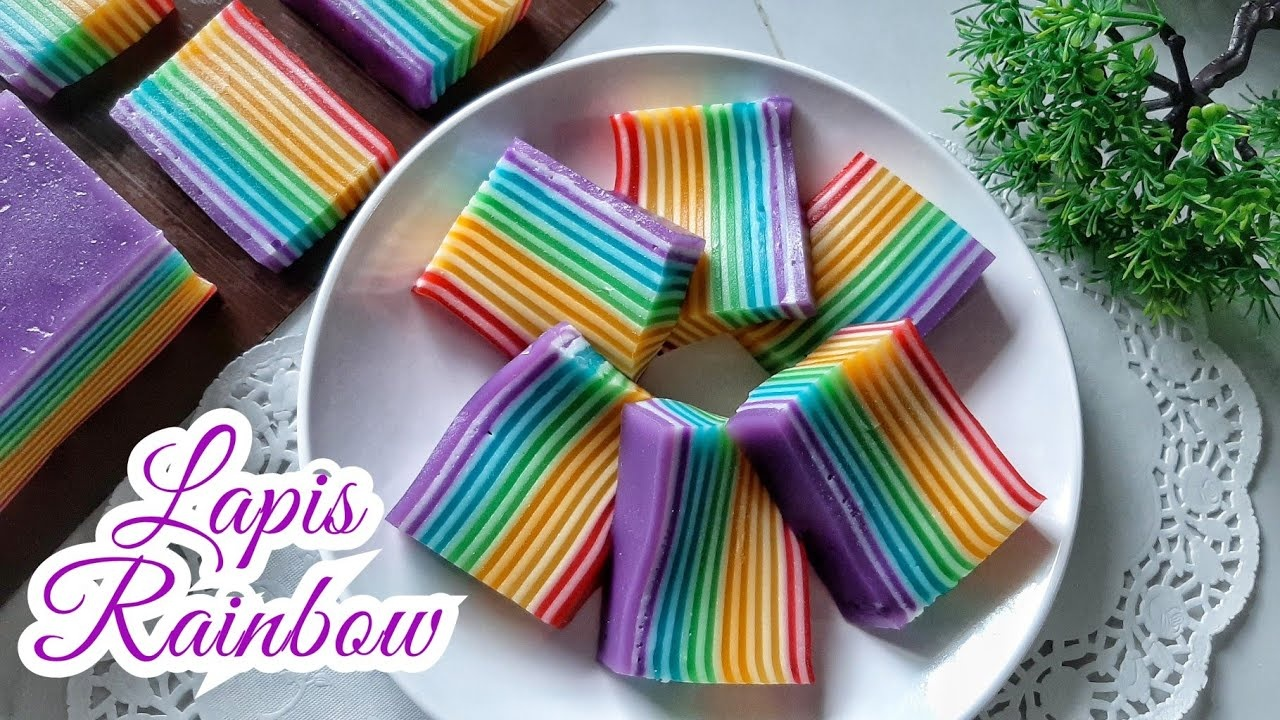kue_lapis_pelangi: (729, 322, 1048, 633), (386, 325, 667, 631), (108, 1, 397, 271), (594, 401, 836, 685), (414, 140, 701, 379)
